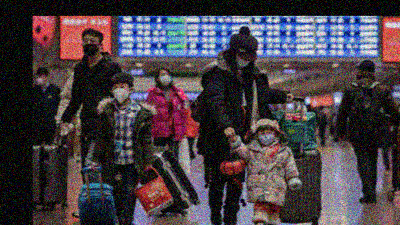with_mask: (81, 36, 99, 55), (112, 83, 130, 102), (259, 128, 275, 144), (236, 52, 251, 69), (159, 72, 171, 86), (36, 73, 47, 85)
